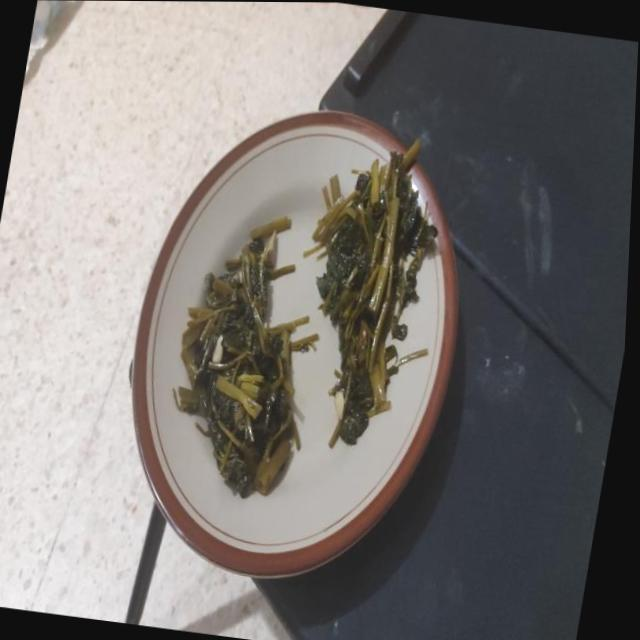tumis_kangkung: (177, 216, 318, 496), (312, 140, 437, 448)
